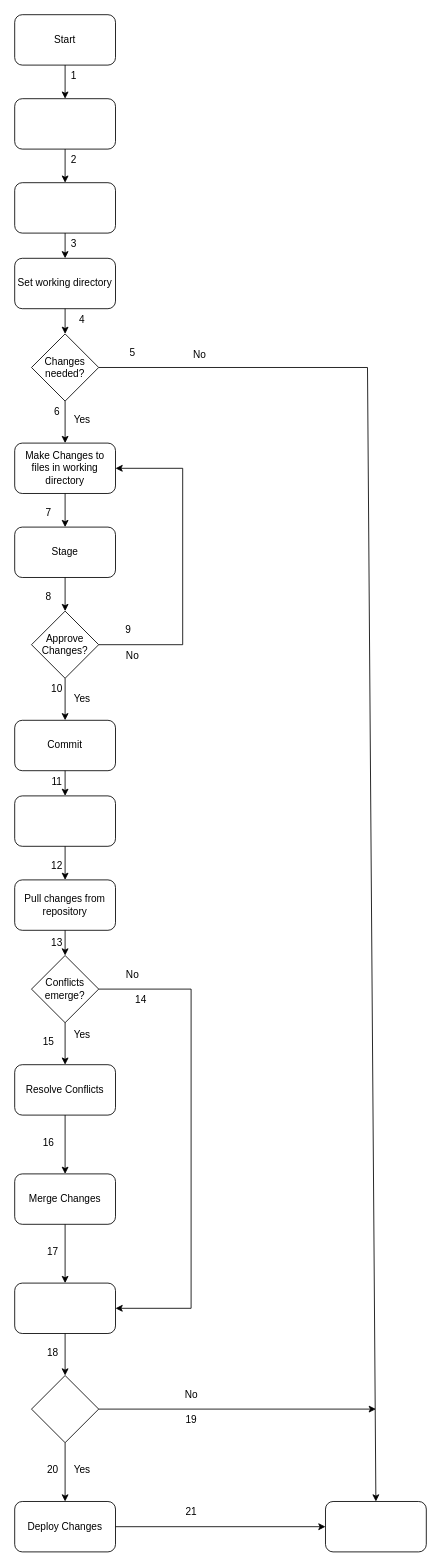
This 441x1567 diagram has some shape labels left out. The shapes that lost their labels are listed below. From the top down, each one's centre as x and y in pixels, then its label:
point (65, 123): Create a repository
point (65, 207): Initialize a repository with files (if any)
point (65, 820): Push
point (65, 1308): View Pull-Requests
point (65, 1409): Approve Request?
point (375, 1526): End
